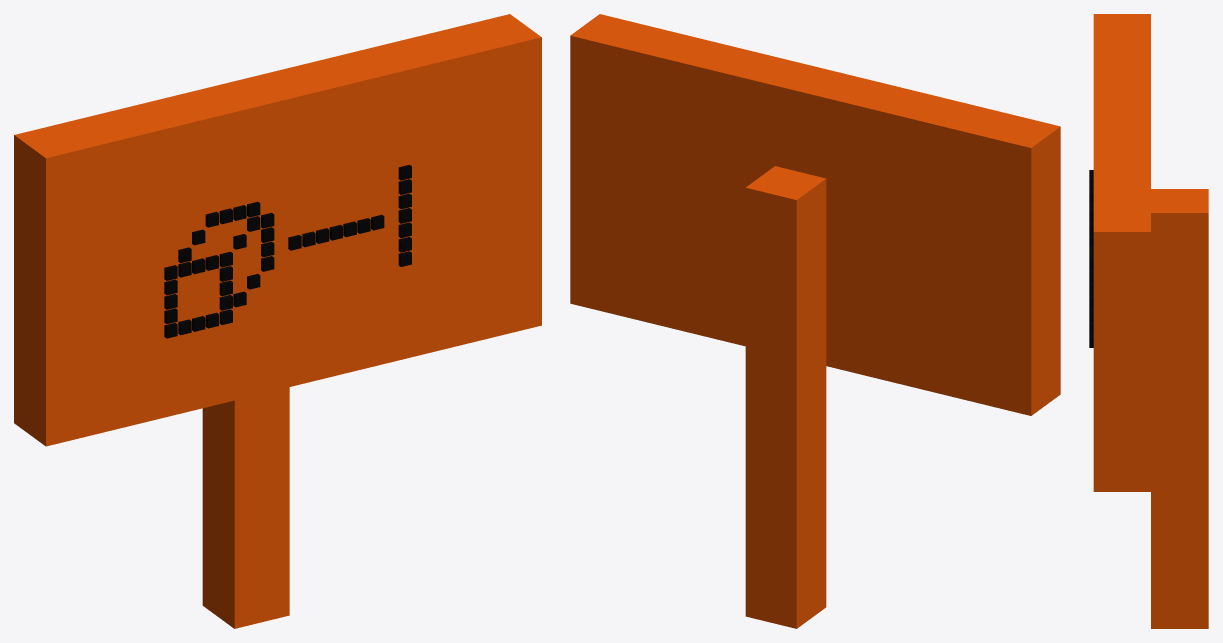
Rendered from DecrementDice.fbx.
3 renders of one model, left to right at view 1: azimuth 30°, elevation 25°; view 2: azimuth 150°, elevation 25°; view 3: azimuth 270°, elevation 25°, orthographic. The views are drawn at different scales.
Visible parts, largest first — view 1: 板, 杭; view 2: 板, 杭; view 3: 板, 杭.
Part boxes in pixels (box(x1,y1,x2,y2)): 板: box(14, 14, 541, 446); 杭: box(202, 387, 289, 628); 板: box(570, 14, 1060, 415); 杭: box(745, 166, 826, 628); 板: box(1093, 14, 1150, 491); 杭: box(1151, 189, 1208, 628).
Size of the model in its own units: 180 by 190 by 41.5.
